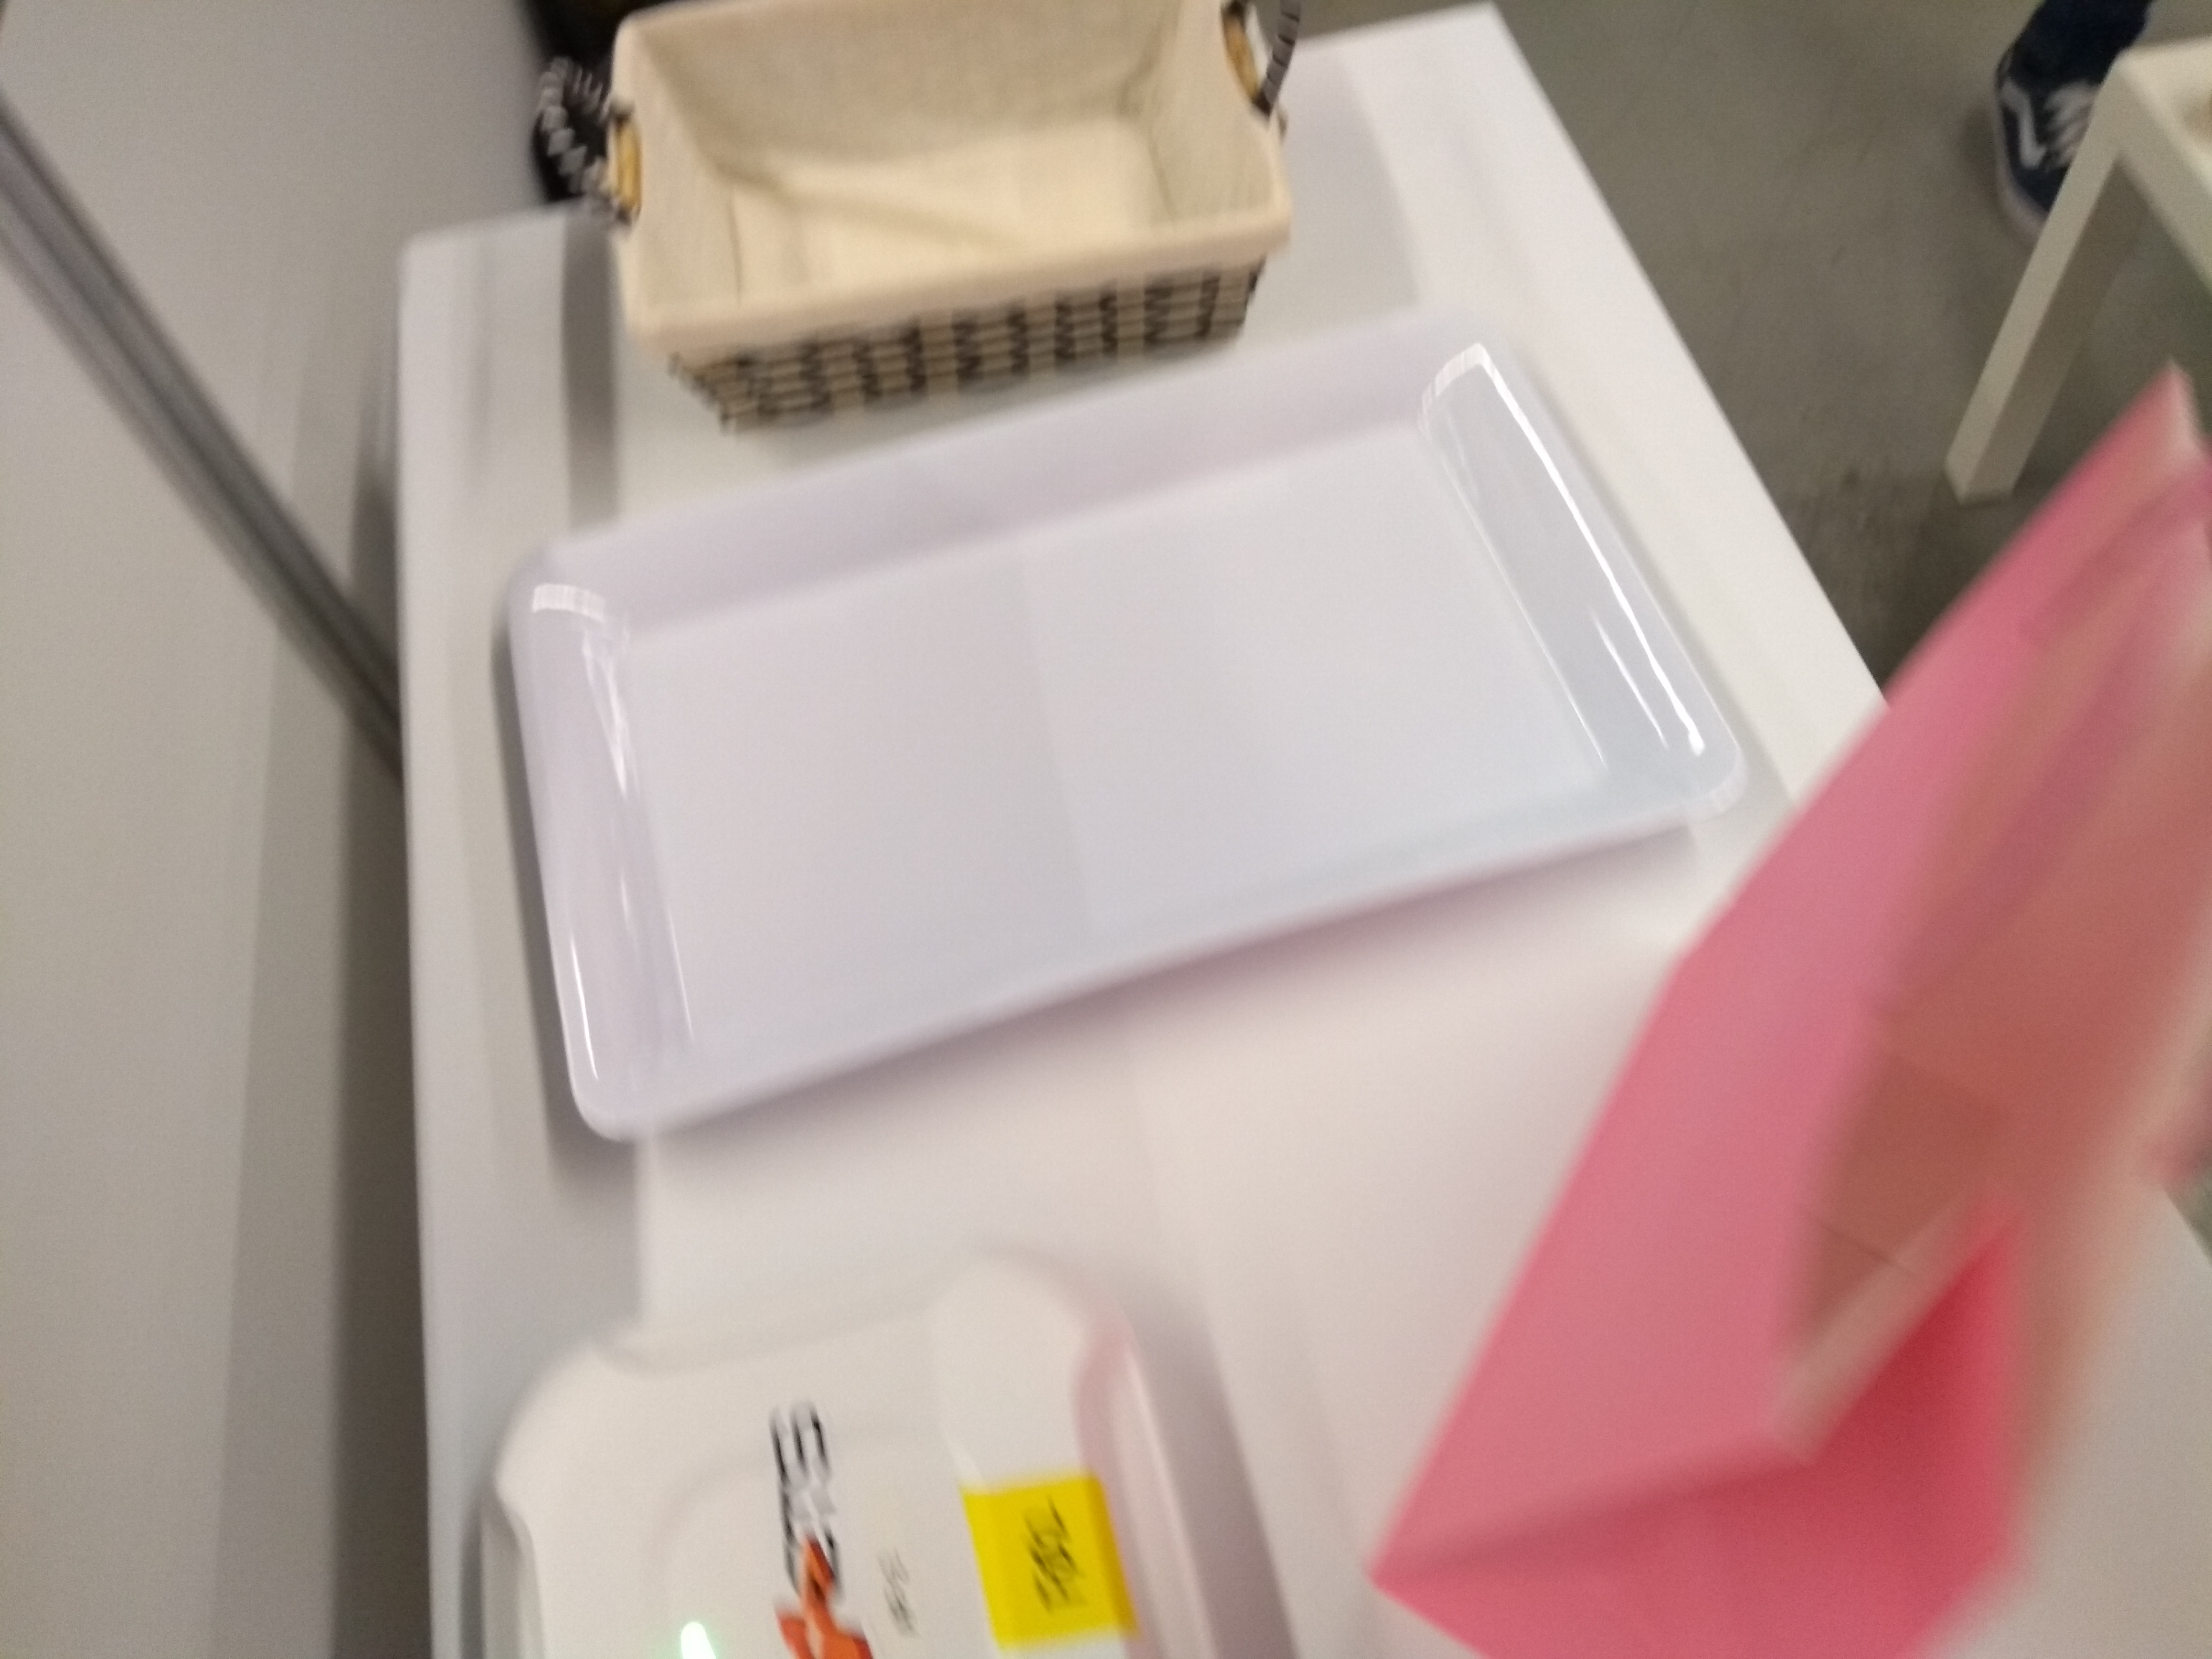basket: (523, 0, 1318, 450)
tray: (482, 314, 1757, 1166)
